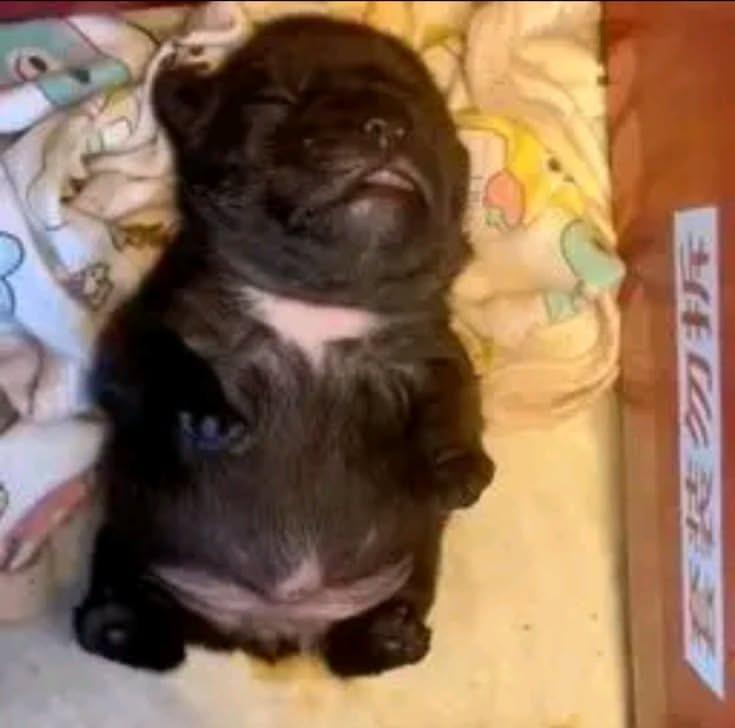puppy-dog: (71, 14, 497, 680)
